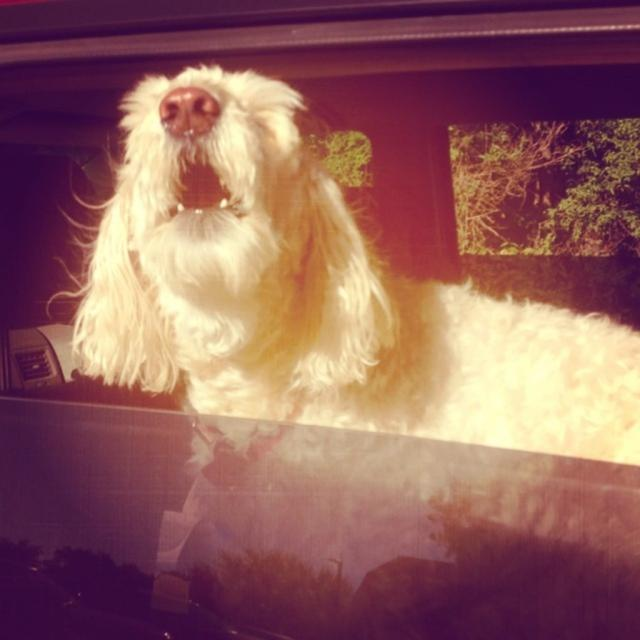Dog: (44, 61, 638, 638)
